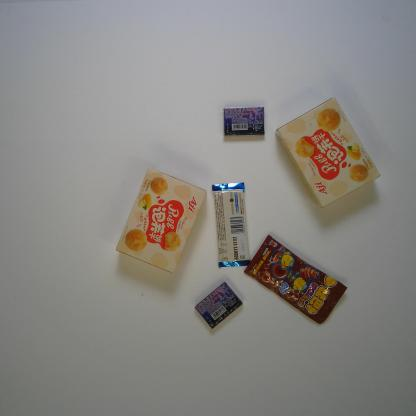Candy: (244, 233, 348, 328)
Chocolate: (212, 181, 252, 269)
Dessert: (275, 96, 382, 208), (112, 164, 210, 276)
Gum: (193, 280, 246, 329), (223, 106, 266, 137)
